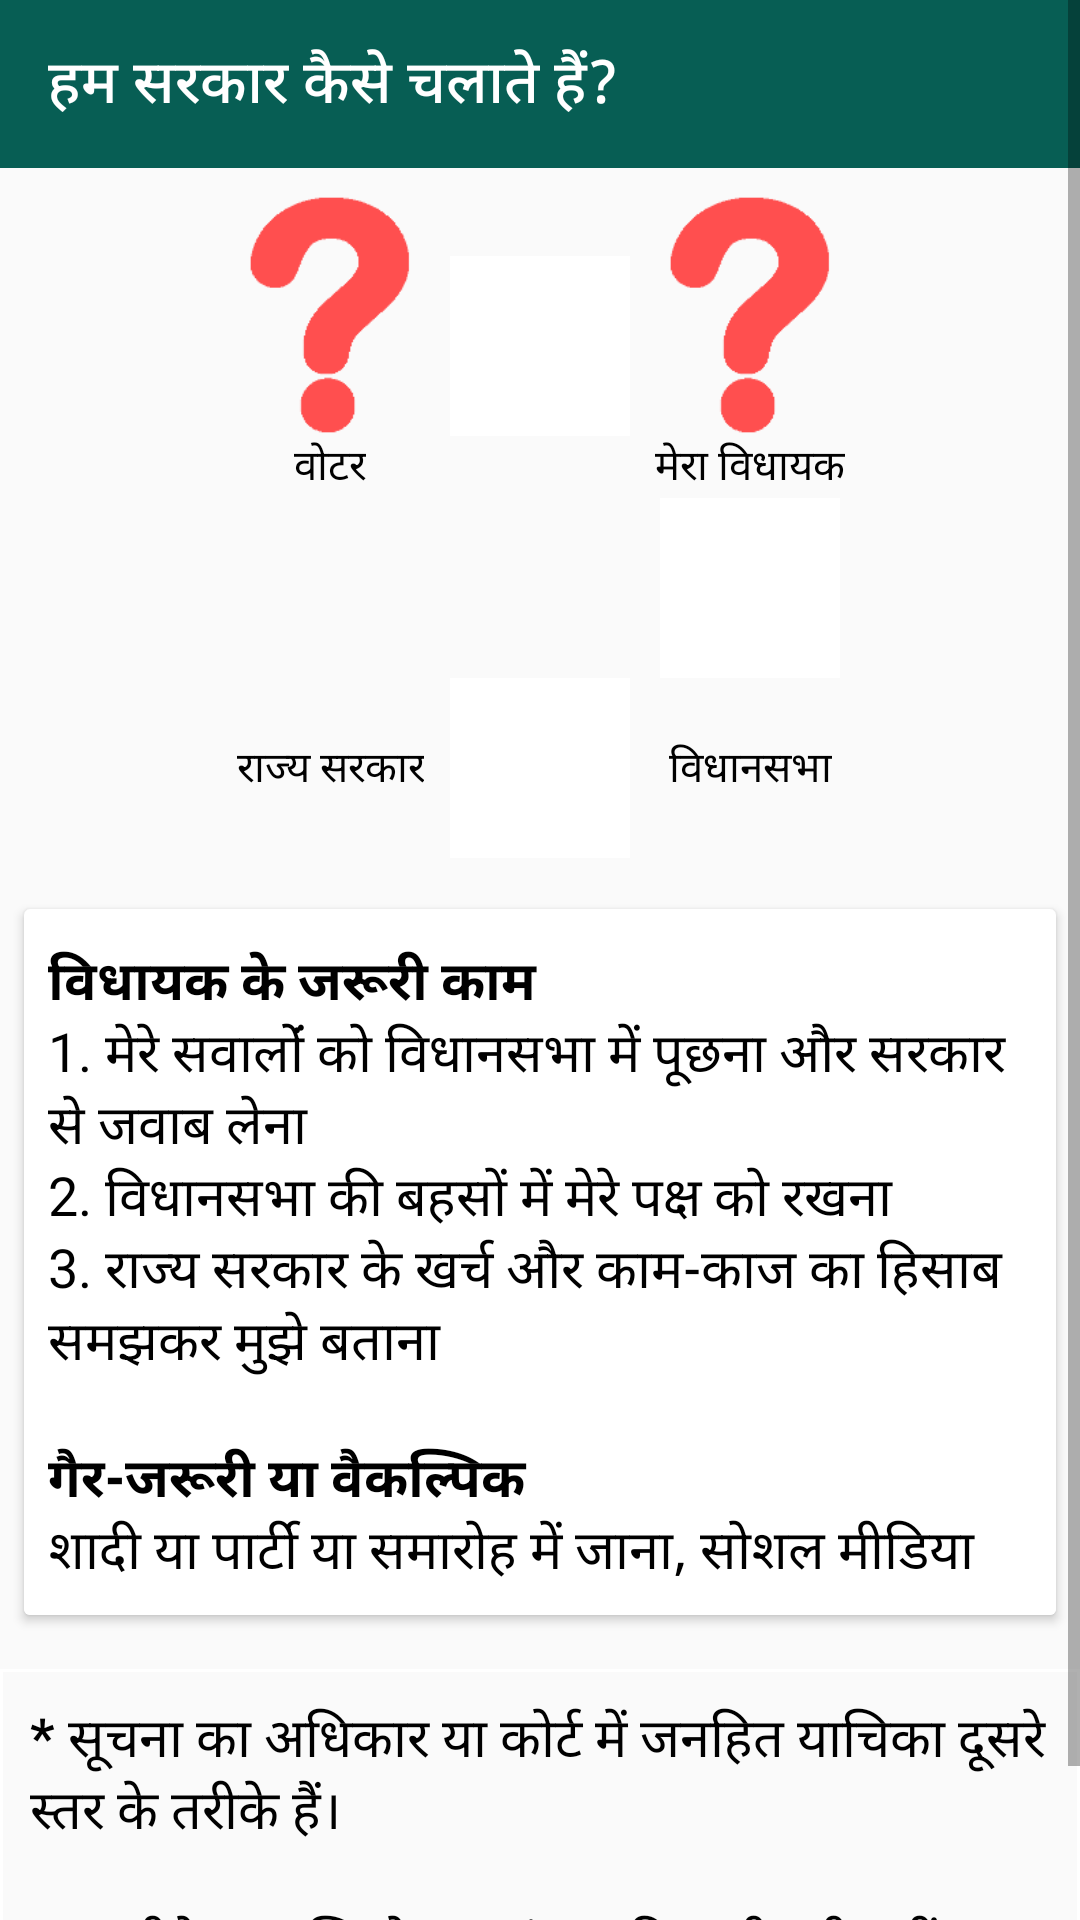

Where icons sit on this 1080*1920 app screen, as (x1, y1, x2, y2):
issues: (250, 197, 409, 433), (670, 197, 829, 433)
